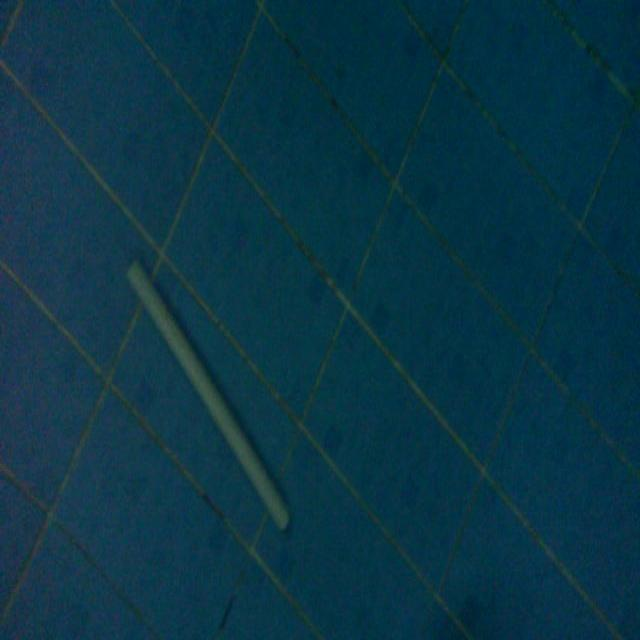Cube: (124, 251, 292, 533)
